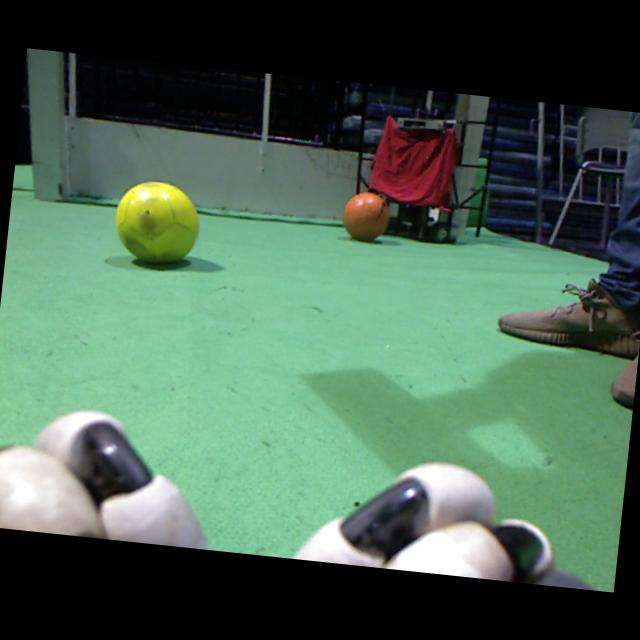ball: (115, 181, 199, 263), (343, 192, 388, 241)
goal: (450, 95, 489, 236), (27, 49, 61, 202)
